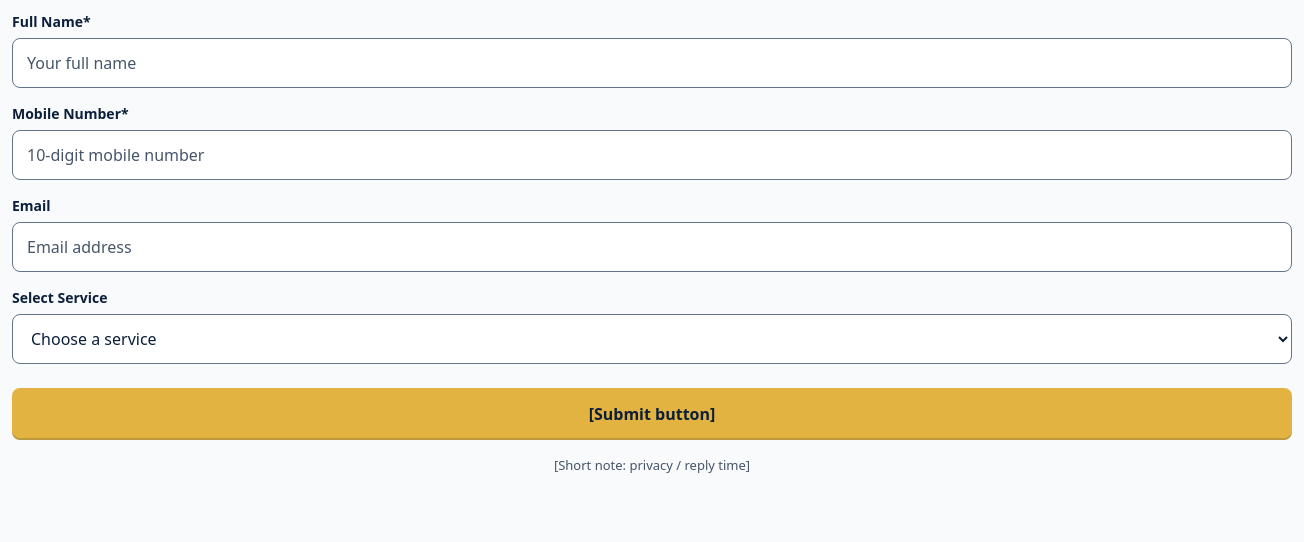
Test: EnquiryForm › shows errors and does not open WhatsApp when required fields are missing
This screenshot has width=1304, height=542.
Click the button: (652, 414) x1=12 y1=388 x2=1292 y2=440
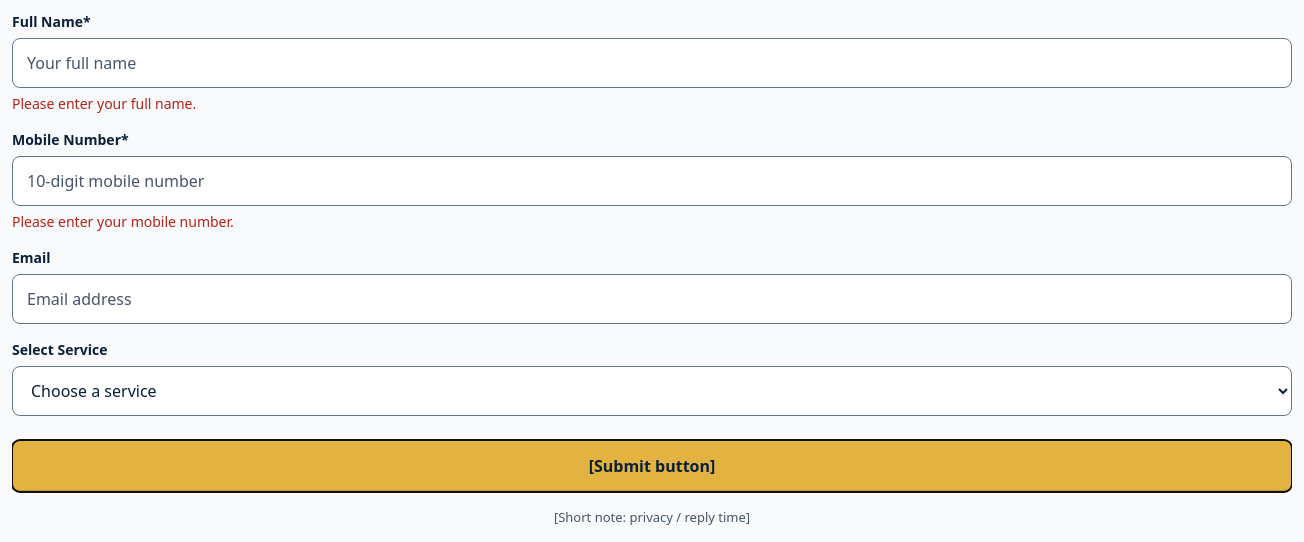
Check: the text "Please enter your full name." is shown, box x1=12 y1=94 x2=196 y2=113
Check: the text "Please enter your mobile number." is shown, box x1=12 y1=212 x2=234 y2=231
